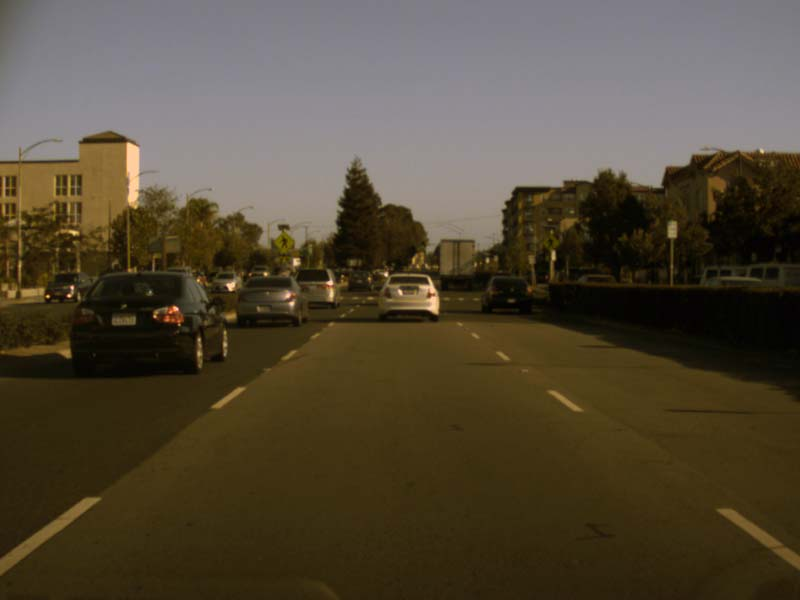Green: (420, 241, 424, 248)
